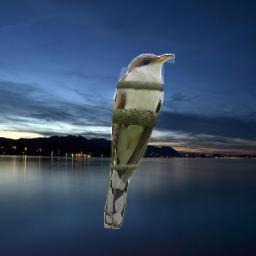Cuckoo: (104, 53, 175, 229)
